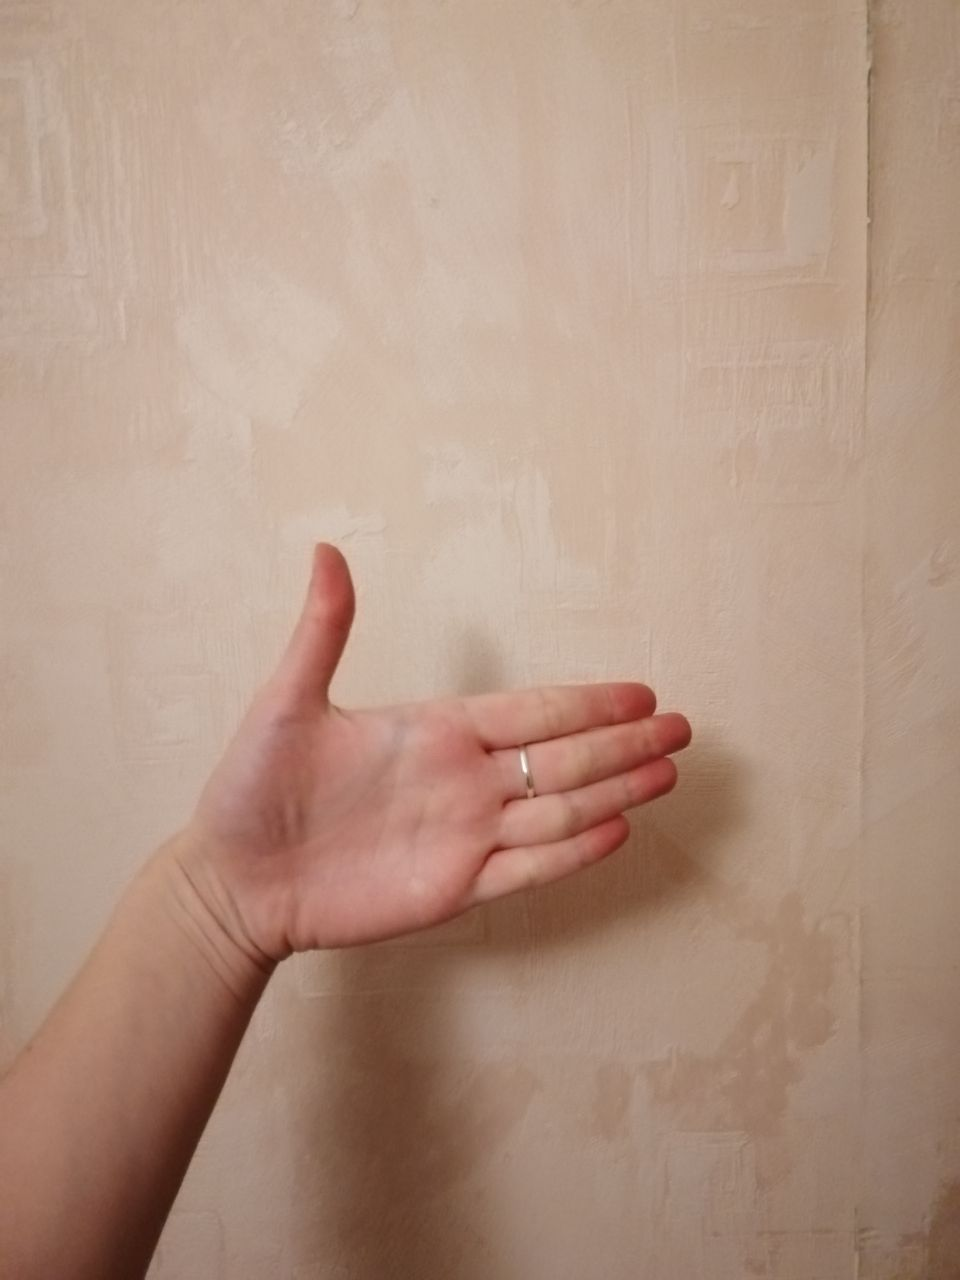hand: (227, 563, 679, 881)
